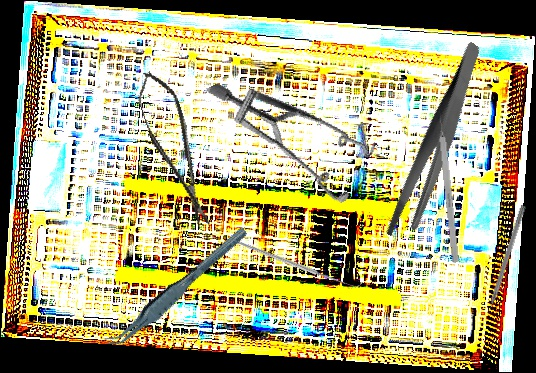Dressing Forceps: (347, 40, 527, 247)
Hook Surgical: (233, 194, 364, 331), (435, 106, 460, 263)
Micro Scissor: (130, 65, 219, 235)
Pusher: (481, 204, 527, 323)
Speculum: (205, 32, 393, 235)
Tissue Forceps: (94, 225, 260, 353)
